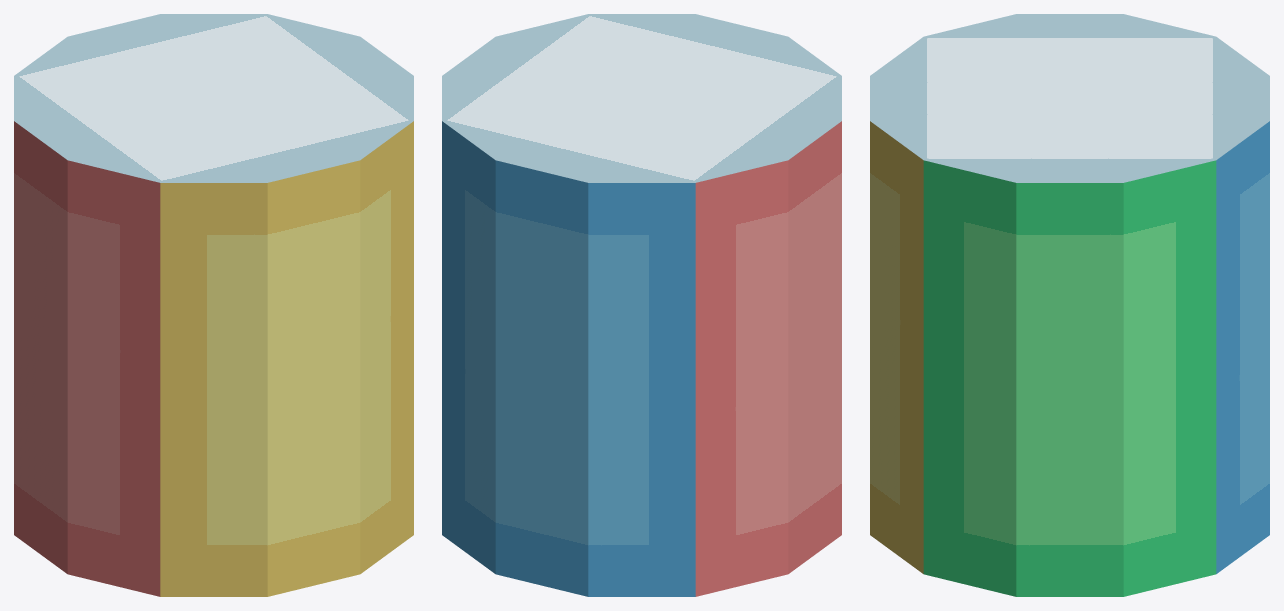
The model's file is city.glb.
3 views of the same model, side by side, from view 1: azimuth 30°, elevation 25°; view 2: azimuth 150°, elevation 25°; view 3: azimuth 270°, elevation 25° (orthographic).
Parts seen in each view (by area): view 1: cylinder; view 2: cylinder; view 3: cylinder.
Boxes of the visible parts, bbox=[...] form: cylinder: bbox=[14, 14, 413, 596]; cylinder: bbox=[442, 14, 841, 596]; cylinder: bbox=[870, 14, 1269, 596].
Bounding box in the file's own units: 0.4375 × 0.5 × 0.4375.
1 material, 1 textured.
